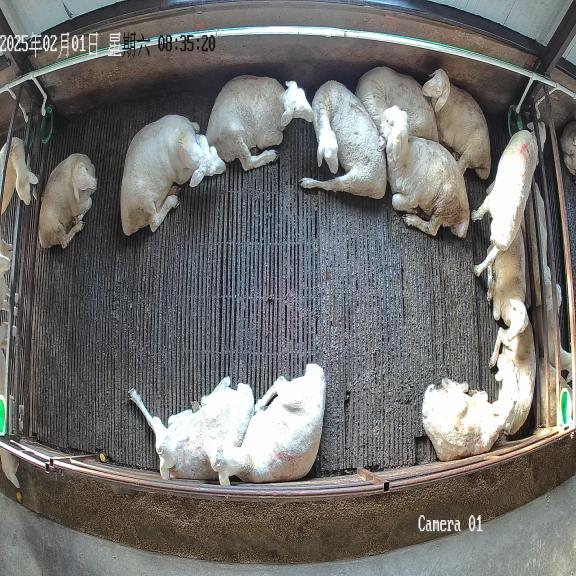drinking: (471, 122, 546, 276)
lying: (209, 364, 326, 485), (130, 377, 254, 480), (120, 115, 225, 235), (379, 105, 470, 237), (422, 353, 519, 460), (300, 80, 387, 198), (206, 75, 313, 170), (422, 69, 490, 179), (355, 67, 439, 142), (39, 153, 97, 248), (489, 322, 536, 435), (486, 228, 529, 340)
